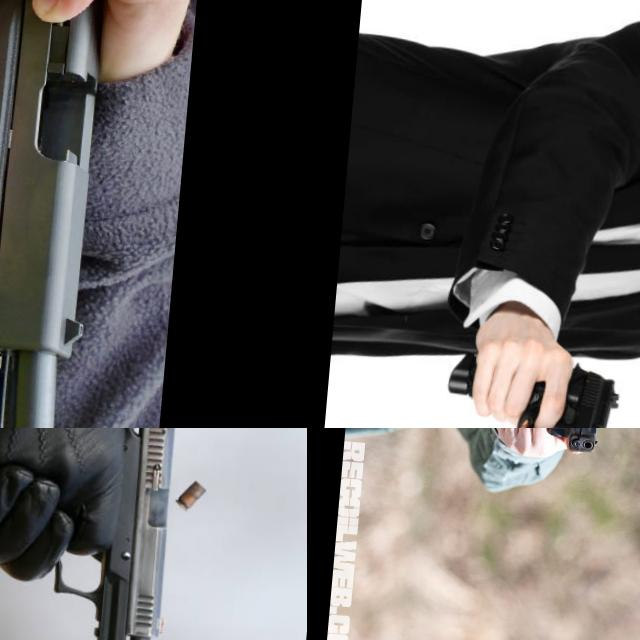handgun: (0, 0, 139, 428), (40, 428, 188, 640), (505, 351, 625, 428), (543, 428, 606, 462)
